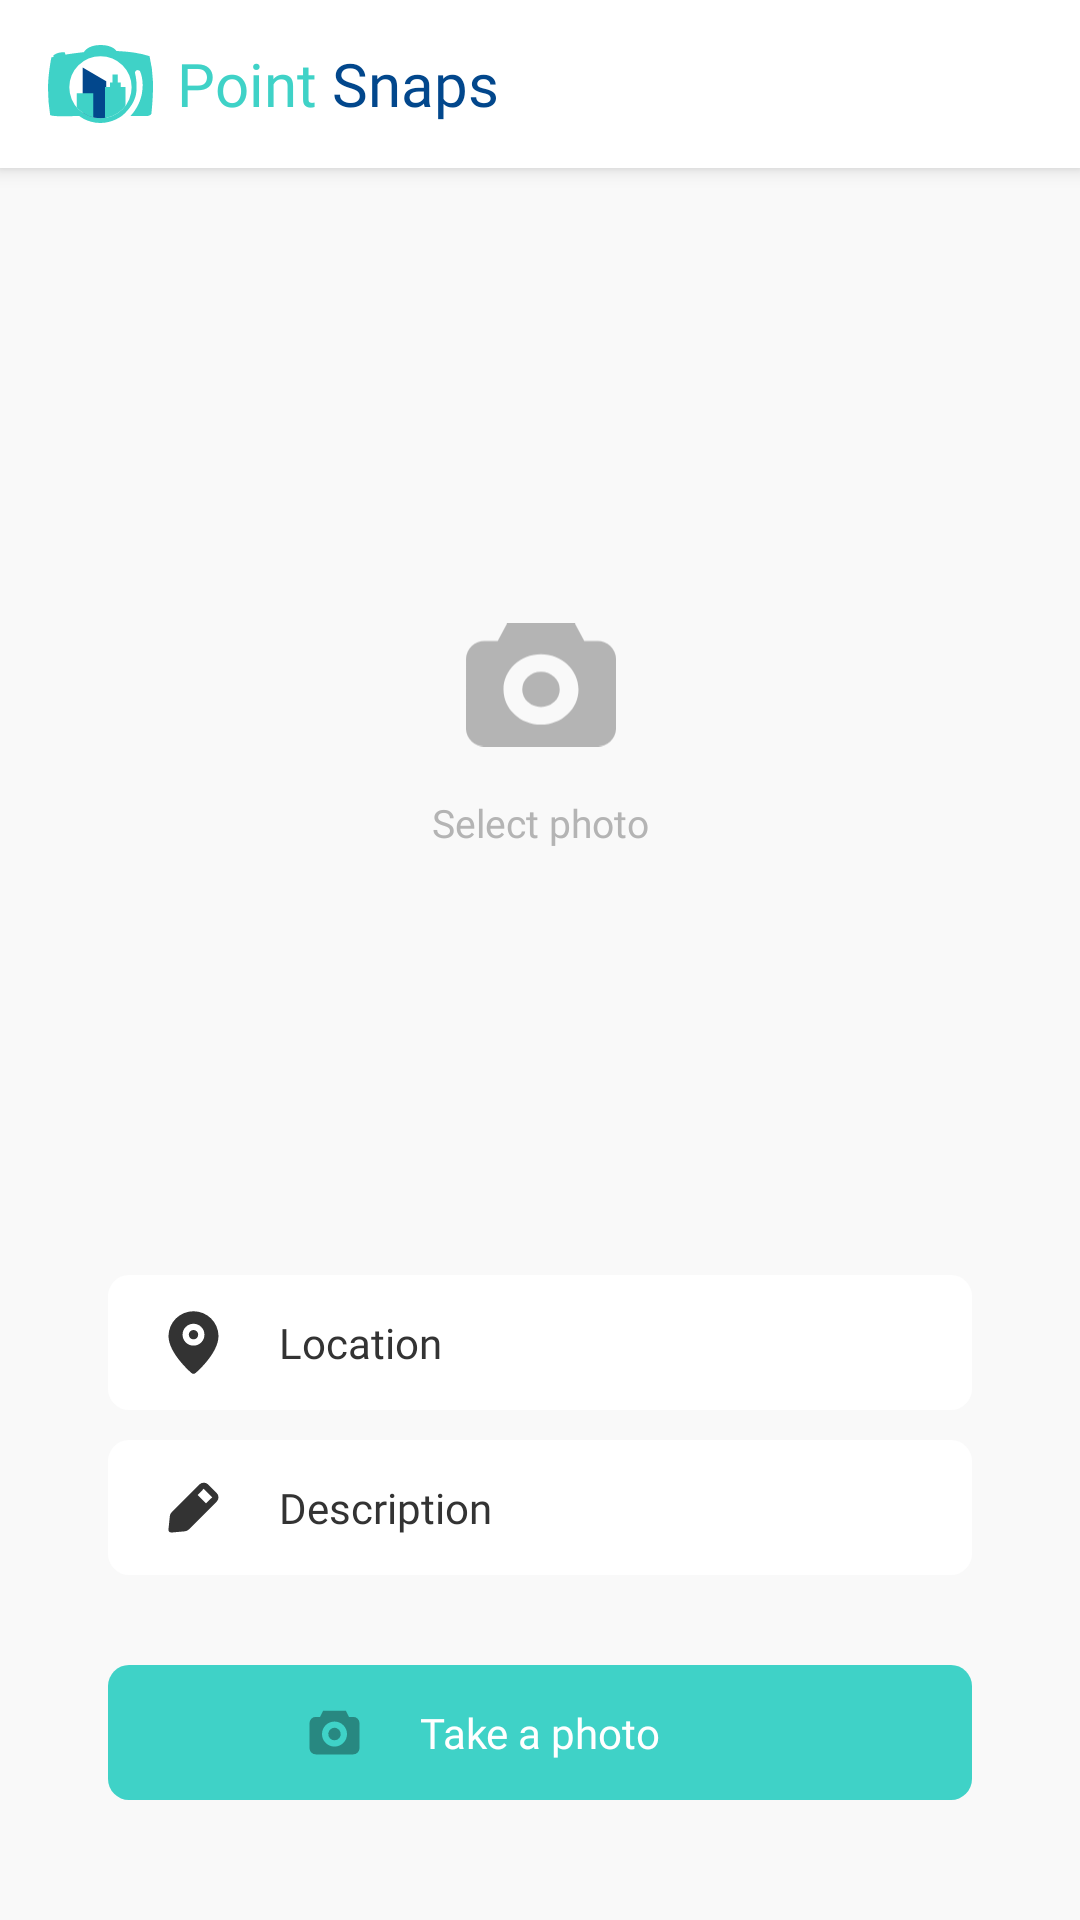

Screen size 1080px x 1920px. Icon name, then its center in pixels as (x,y):
camera: (541,685), (334,1733)
